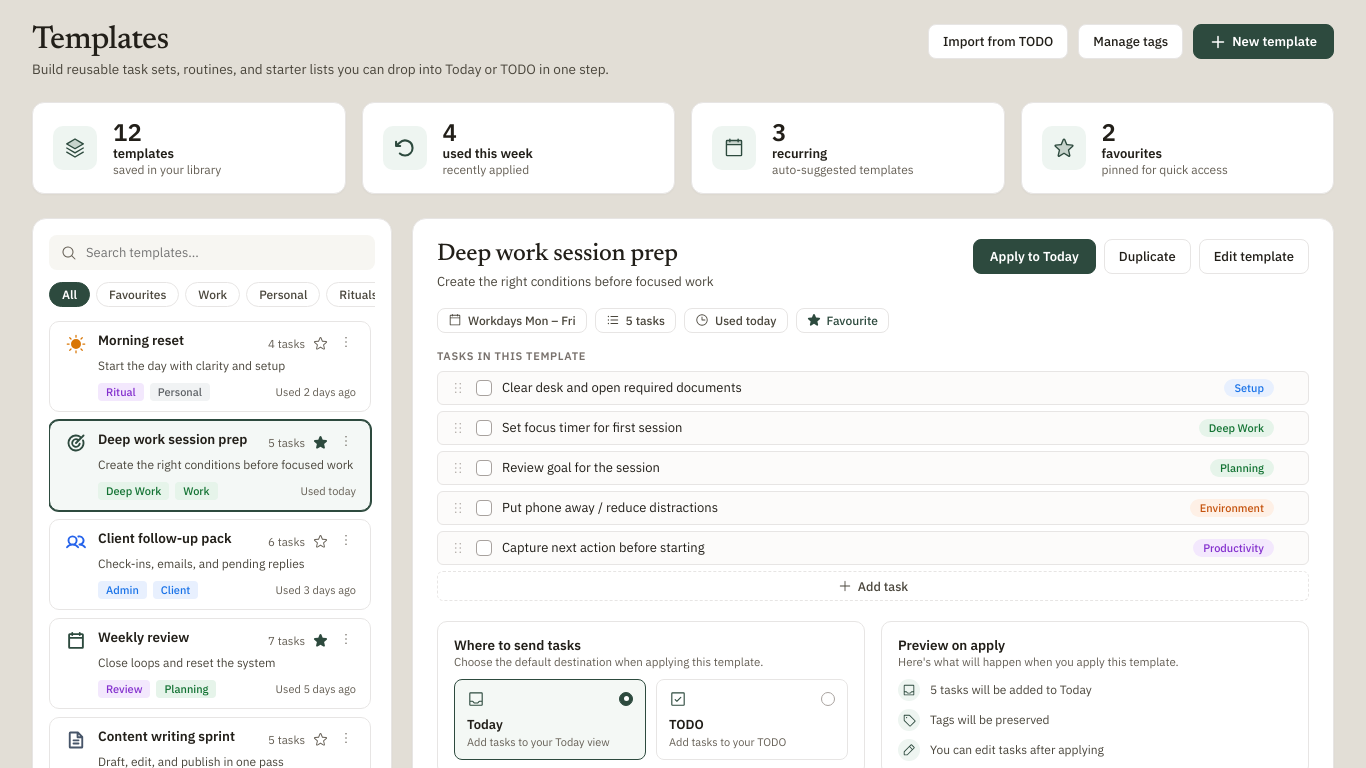
it: TemplatesView render flows › switches destination between Today and TODO
The width and height of the screenshot is (1366, 768).
Expected: the button "Apply to Today" is shown, [973,239,1096,274]
Click the radio button labelled "TODO Add tasks to your TODO".
click(752, 719)  # box [656,679,848,760]
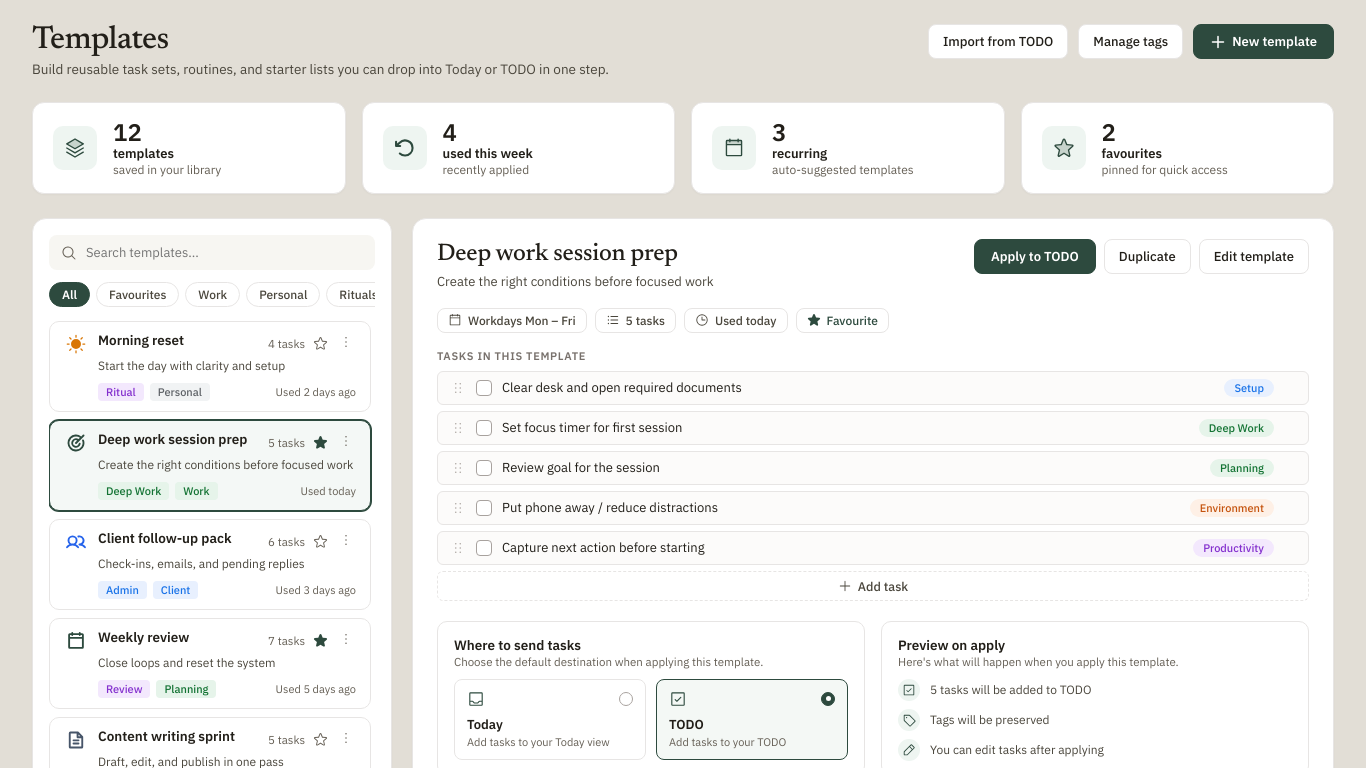
Result: the button "Apply to TODO" is shown at [974,239,1096,274]
